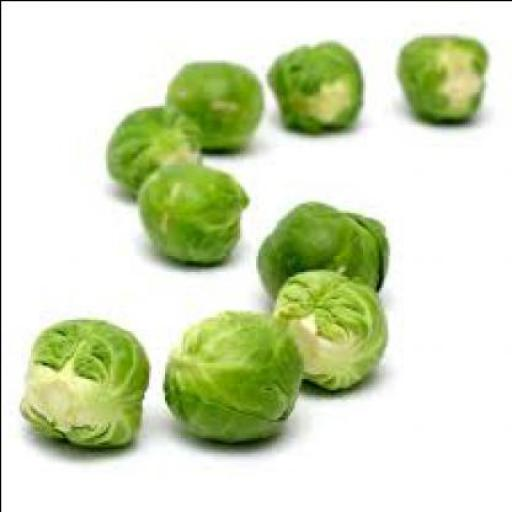biodegradable: (164, 307, 308, 439), (21, 316, 153, 446), (273, 266, 394, 389), (258, 201, 392, 309), (138, 160, 250, 262), (268, 39, 364, 130), (168, 59, 264, 148), (398, 30, 489, 123), (109, 103, 202, 191)
